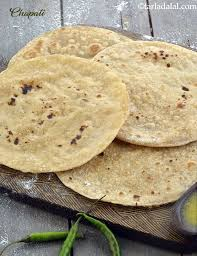roti: (69, 30, 197, 146), (7, 24, 135, 140), (69, 97, 197, 213), (1, 51, 128, 167)
